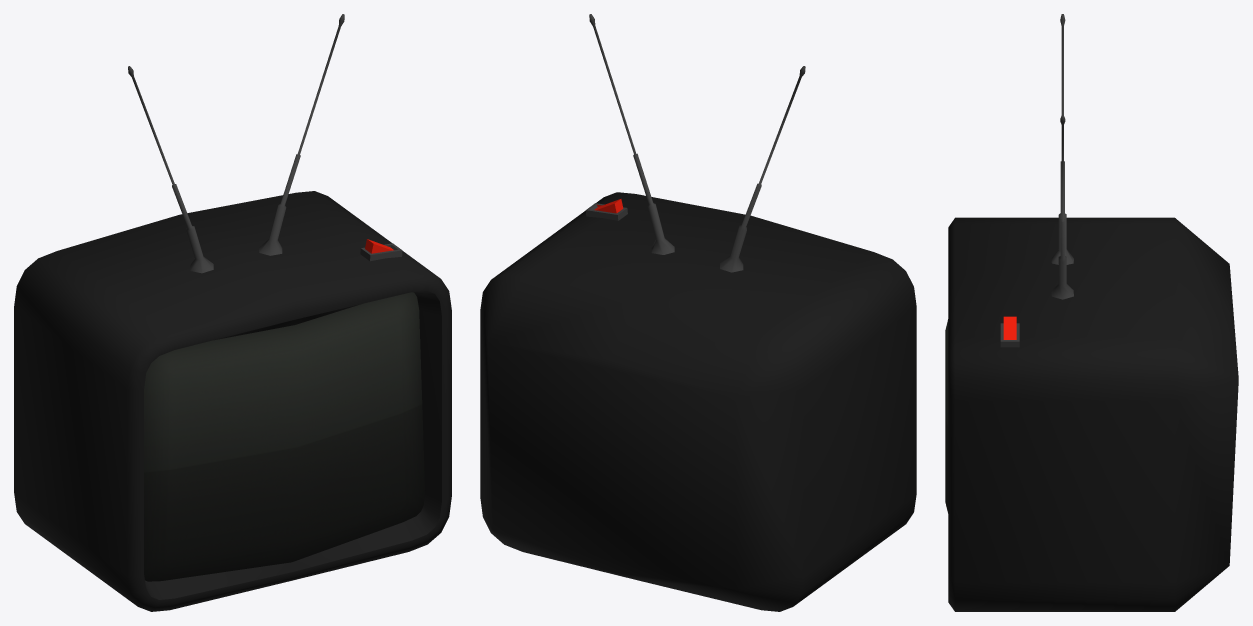
3 renders of one model, left to right at view 1: azimuth 30°, elevation 25°; view 2: azimuth 150°, elevation 25°; view 3: azimuth 270°, elevation 25°, orthographic. The views are drawn at different scales.
Parts seen in each view (by area): view 1: Tv; view 2: Tv; view 3: Tv.
Part boxes in pixels (left/top/right/bottom): Tv: left=14, top=14, right=451, bottom=611; Tv: left=480, top=14, right=916, bottom=611; Tv: left=945, top=14, right=1238, bottom=611.
Bounding box in the file's own units: 125 × 184 × 101.
